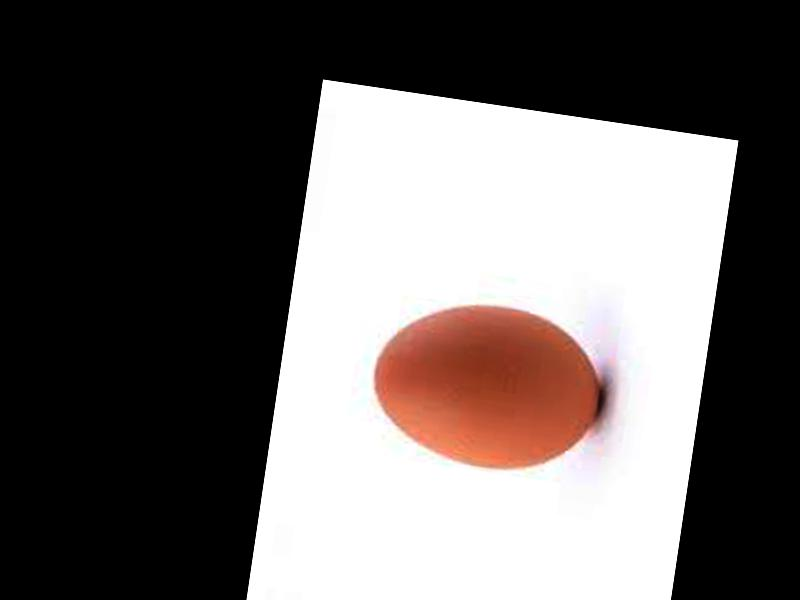Eggs: (364, 288, 610, 482)
